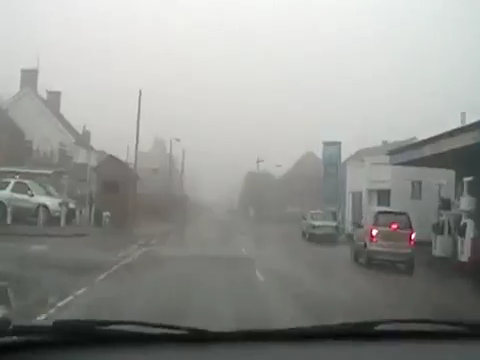car: (352, 206, 417, 273), (1, 178, 71, 225), (19, 180, 77, 223), (301, 209, 341, 242)
